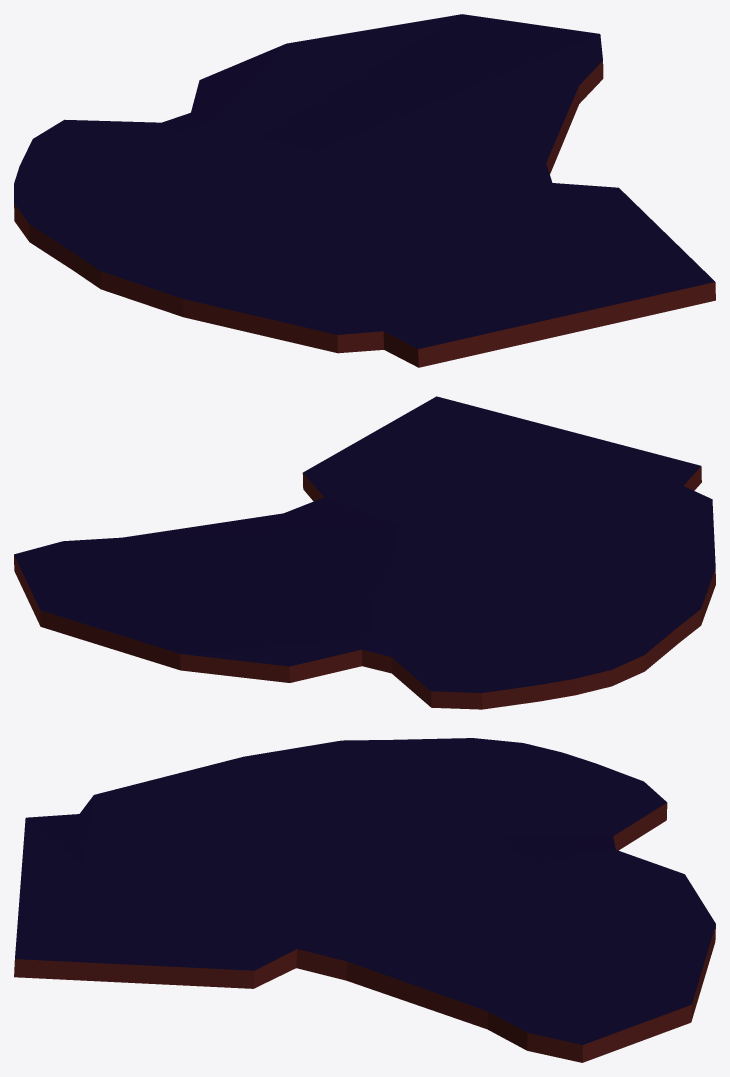
Rendered from AshenRuins1stLevelFloorfbx.fbx.
3 renders of one model, top to bottom at view 1: azimuth 30°, elevation 25°; view 2: azimuth 150°, elevation 25°; view 3: azimuth 270°, elevation 25°, orthographic. The views are drawn at different scales.
Visible parts, largest first — view 1: Plane.119; view 2: Plane.119; view 3: Plane.119.
Boxes of the visible parts, x1,y1,x2,y2 form: Plane.119: (14, 14, 715, 367); Plane.119: (14, 396, 715, 709); Plane.119: (14, 738, 715, 1062).
Bounding box in the file's own units: 4663 × 175 × 4557.
